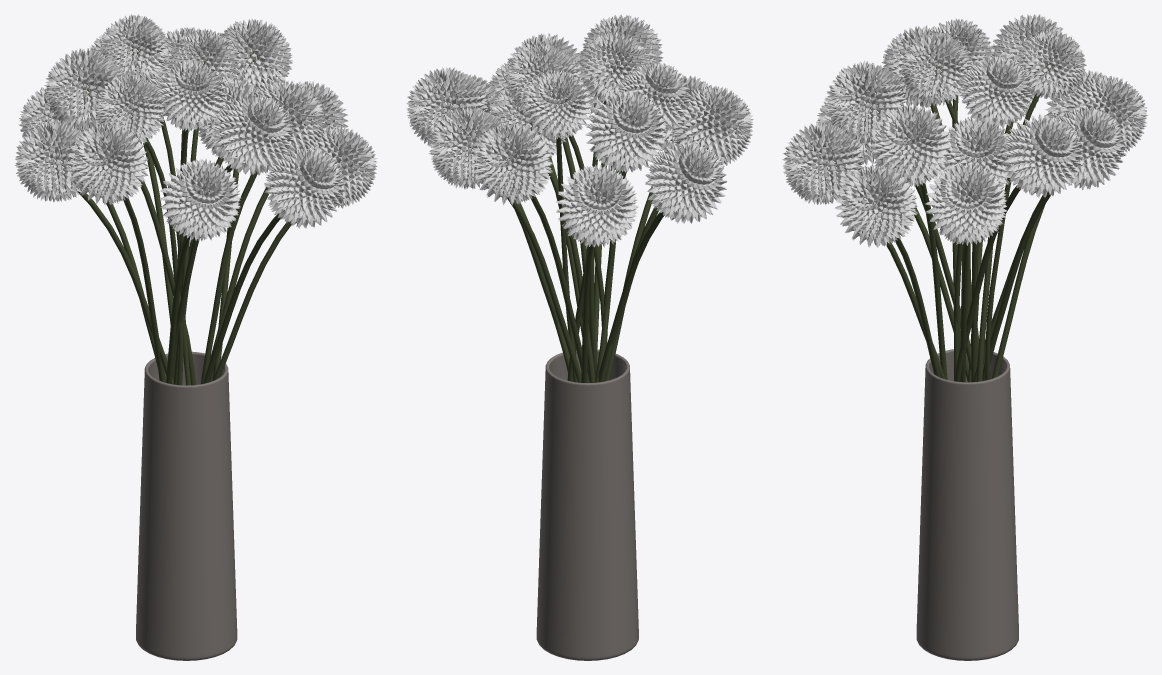
Rendered from Craspedia_flowers_in_vase.FBX.
The picture shows the model from 3 angles, left to right: view 1: azimuth 30°, elevation 25°; view 2: azimuth 150°, elevation 25°; view 3: azimuth 270°, elevation 25°; orthographic projection.
Visible parts, largest first — view 1: Craspedia_flowers_in_vase, Cylinder017, Cylinder011, Cylinder014, Cylinder023, Cylinder016, Cylinder013, Cylinder021, Cylinder025, Cylinder019, Cylinder022, Cylinder027 (+21 smaller); view 2: Craspedia_flowers_in_vase, Cylinder020, Cylinder010, Cylinder013, Cylinder016, Cylinder014, Cylinder022, Cylinder015, Cylinder025, Cylinder021, Cylinder019, Cylinder018 (+16 smaller); view 3: Craspedia_flowers_in_vase, Cylinder024, Cylinder025, Cylinder027, Cylinder026, Cylinder023, Cylinder017, Cylinder018, Cylinder021, Cylinder022, Cylinder015, Cylinder010 (+19 smaller).
Boxes of the visible parts, left/top/right/bottom form: Craspedia_flowers_in_vase: left=136, top=351, right=237, bottom=660; Cylinder017: left=212, top=94, right=294, bottom=175; Cylinder011: left=160, top=159, right=241, bottom=241; Cylinder014: left=66, top=122, right=148, bottom=204; Cylinder023: left=264, top=145, right=346, bottom=228; Cylinder016: left=44, top=48, right=124, bottom=130; Cylinder013: left=15, top=120, right=83, bottom=202; Cylinder021: left=156, top=59, right=226, bottom=131; Cylinder025: left=220, top=19, right=292, bottom=89; Cylinder019: left=95, top=74, right=164, bottom=144; Cylinder022: left=99, top=14, right=169, bottom=80; Cylinder027: left=307, top=126, right=377, bottom=208; Craspedia_flowers_in_vase: left=536, top=349, right=638, bottom=660; Cylinder020: left=555, top=165, right=638, bottom=247; Cylinder010: left=470, top=122, right=552, bottom=205; Cylinder013: left=645, top=140, right=726, bottom=223; Cylinder016: left=585, top=90, right=667, bottom=172; Cylinder014: left=671, top=86, right=753, bottom=165; Cylinder022: left=522, top=70, right=592, bottom=139; Cylinder015: left=428, top=106, right=503, bottom=189; Cylinder025: left=406, top=67, right=487, bottom=147; Cylinder021: left=579, top=32, right=650, bottom=102; Cylinder019: left=619, top=62, right=690, bottom=132; Cylinder018: left=506, top=44, right=577, bottom=112; Craspedia_flowers_in_vase: left=916, top=349, right=1018, bottom=660; Cylinder024: left=925, top=163, right=1007, bottom=245; Cylinder025: left=1001, top=113, right=1083, bottom=198; Cylinder027: left=835, top=164, right=917, bottom=247; Cylinder026: left=869, top=103, right=951, bottom=186; Cylinder023: left=782, top=122, right=864, bottom=204; Cylinder017: left=824, top=61, right=907, bottom=144; Cylinder018: left=960, top=55, right=1032, bottom=128; Cylinder021: left=901, top=32, right=972, bottom=105; Cylinder022: left=1017, top=29, right=1086, bottom=99; Cylinder015: left=1057, top=106, right=1126, bottom=189; Cylinder010: left=1065, top=76, right=1147, bottom=152.
Bounding box in the file's own units: 240 × 446 × 245.
